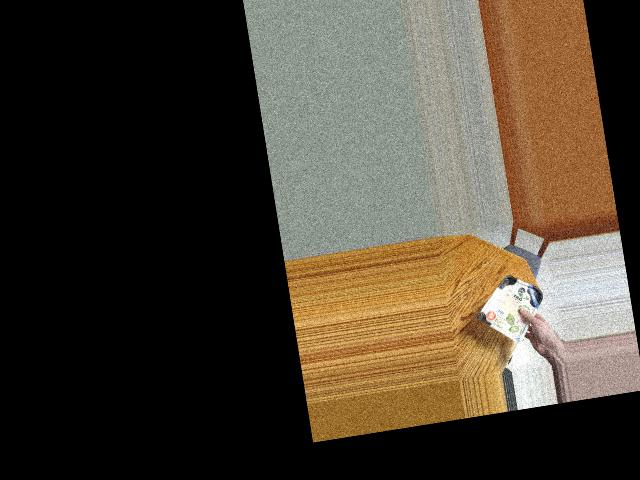cheese: (479, 270, 542, 335)
